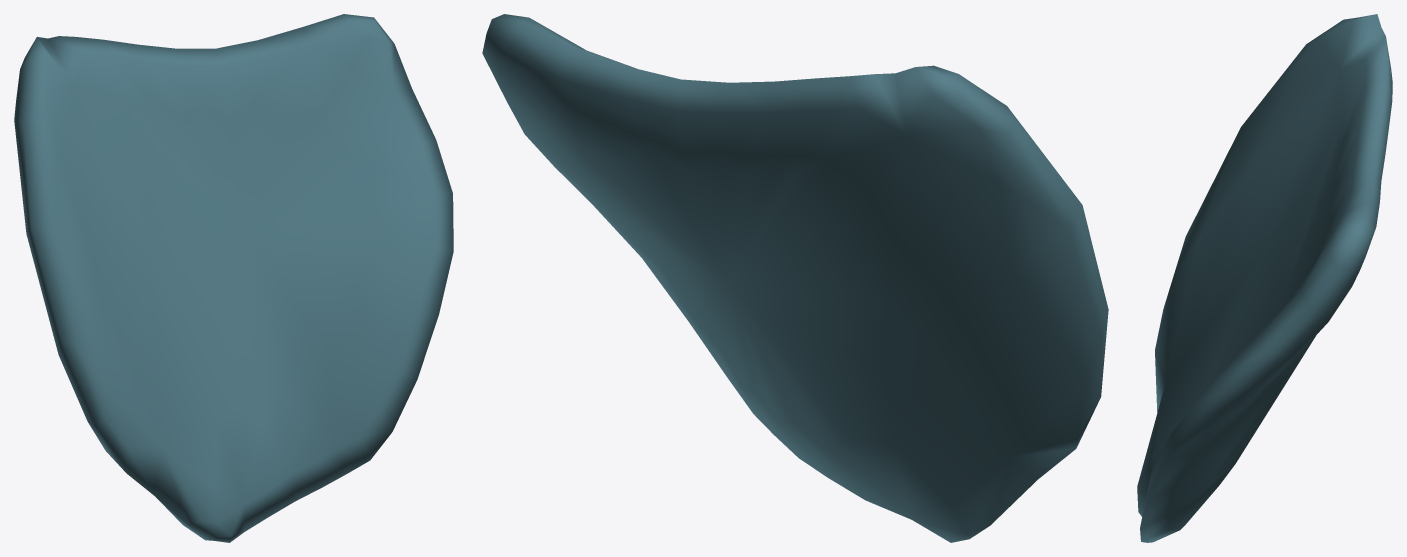
The model's file is Extensor_digitorum-proximal_phalanx-5th_finger.l_Generated_Mesh.glb.
3 views of the same model, side by side, from view 1: azimuth 30°, elevation 25°; view 2: azimuth 150°, elevation 25°; view 3: azimuth 270°, elevation 25° (orthographic). The views are drawn at different scales.
Visible parts, largest first — view 1: Extensor_digitorum-proximal_phalanx-5th_finger.l_Generated_M; view 2: Extensor_digitorum-proximal_phalanx-5th_finger.l_Generated_M; view 3: Extensor_digitorum-proximal_phalanx-5th_finger.l_Generated_M.
Part boxes in pixels (box(x1,y1,x2,y2)): Extensor_digitorum-proximal_phalanx-5th_finger.l_Generated_M: box(14, 14, 453, 542); Extensor_digitorum-proximal_phalanx-5th_finger.l_Generated_M: box(482, 14, 1108, 542); Extensor_digitorum-proximal_phalanx-5th_finger.l_Generated_M: box(1137, 14, 1392, 542).
Bounding box in the file's own units: 0.00553 × 0.00573 × 0.00283.
